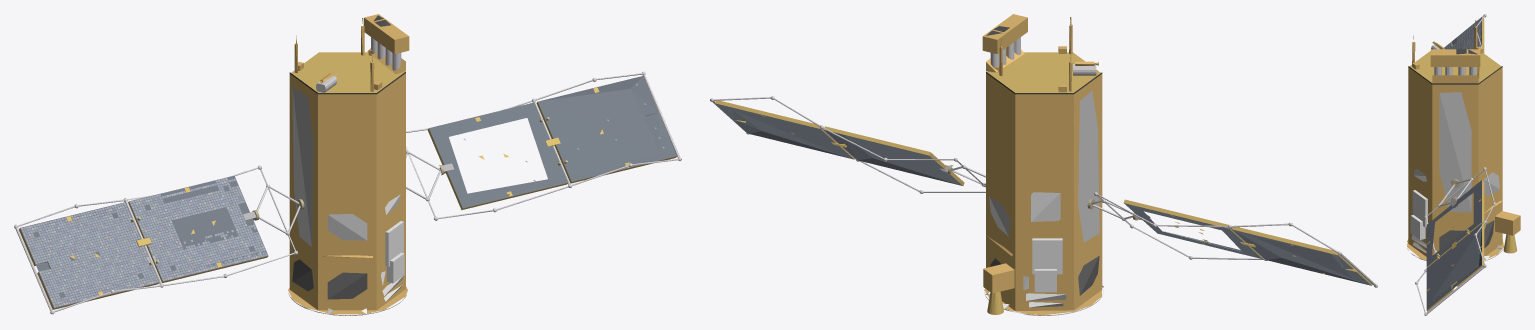
Rendered from oco-2.glb.
The picture shows the model from 3 angles, left to right: view 1: azimuth 30°, elevation 25°; view 2: azimuth 150°, elevation 25°; view 3: azimuth 270°, elevation 25°; orthographic projection. The views are drawn at different scales.
Parts seen in each view (by area): view 1: Layer_0; view 2: Layer_0; view 3: Layer_0.
Boxes of the visible parts, left/top/right/bottom form: Layer_0: left=14, top=14, right=681, bottom=315; Layer_0: left=710, top=14, right=1377, bottom=315; Layer_0: left=1407, top=14, right=1520, bottom=315.
Size of the model in its own units: 1 by 0.3866 by 0.1913.
